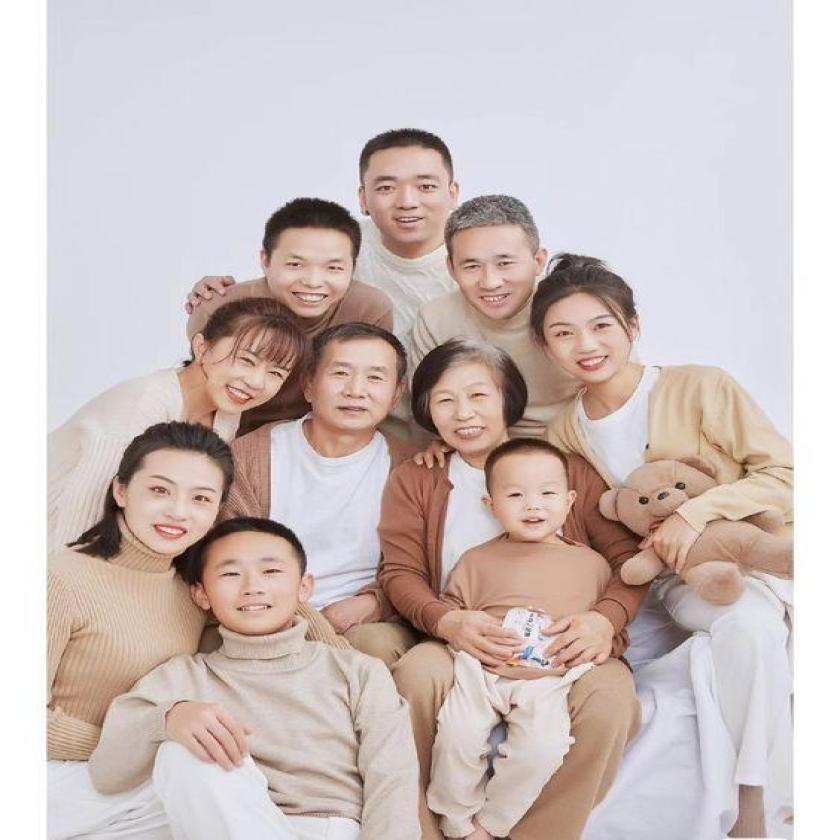Sin_casco: (103, 422, 238, 566), (189, 512, 319, 643), (255, 196, 374, 339), (527, 256, 645, 399), (441, 190, 549, 334), (185, 294, 308, 420), (299, 322, 422, 444), (353, 123, 463, 259), (416, 338, 527, 466), (482, 438, 575, 550)
